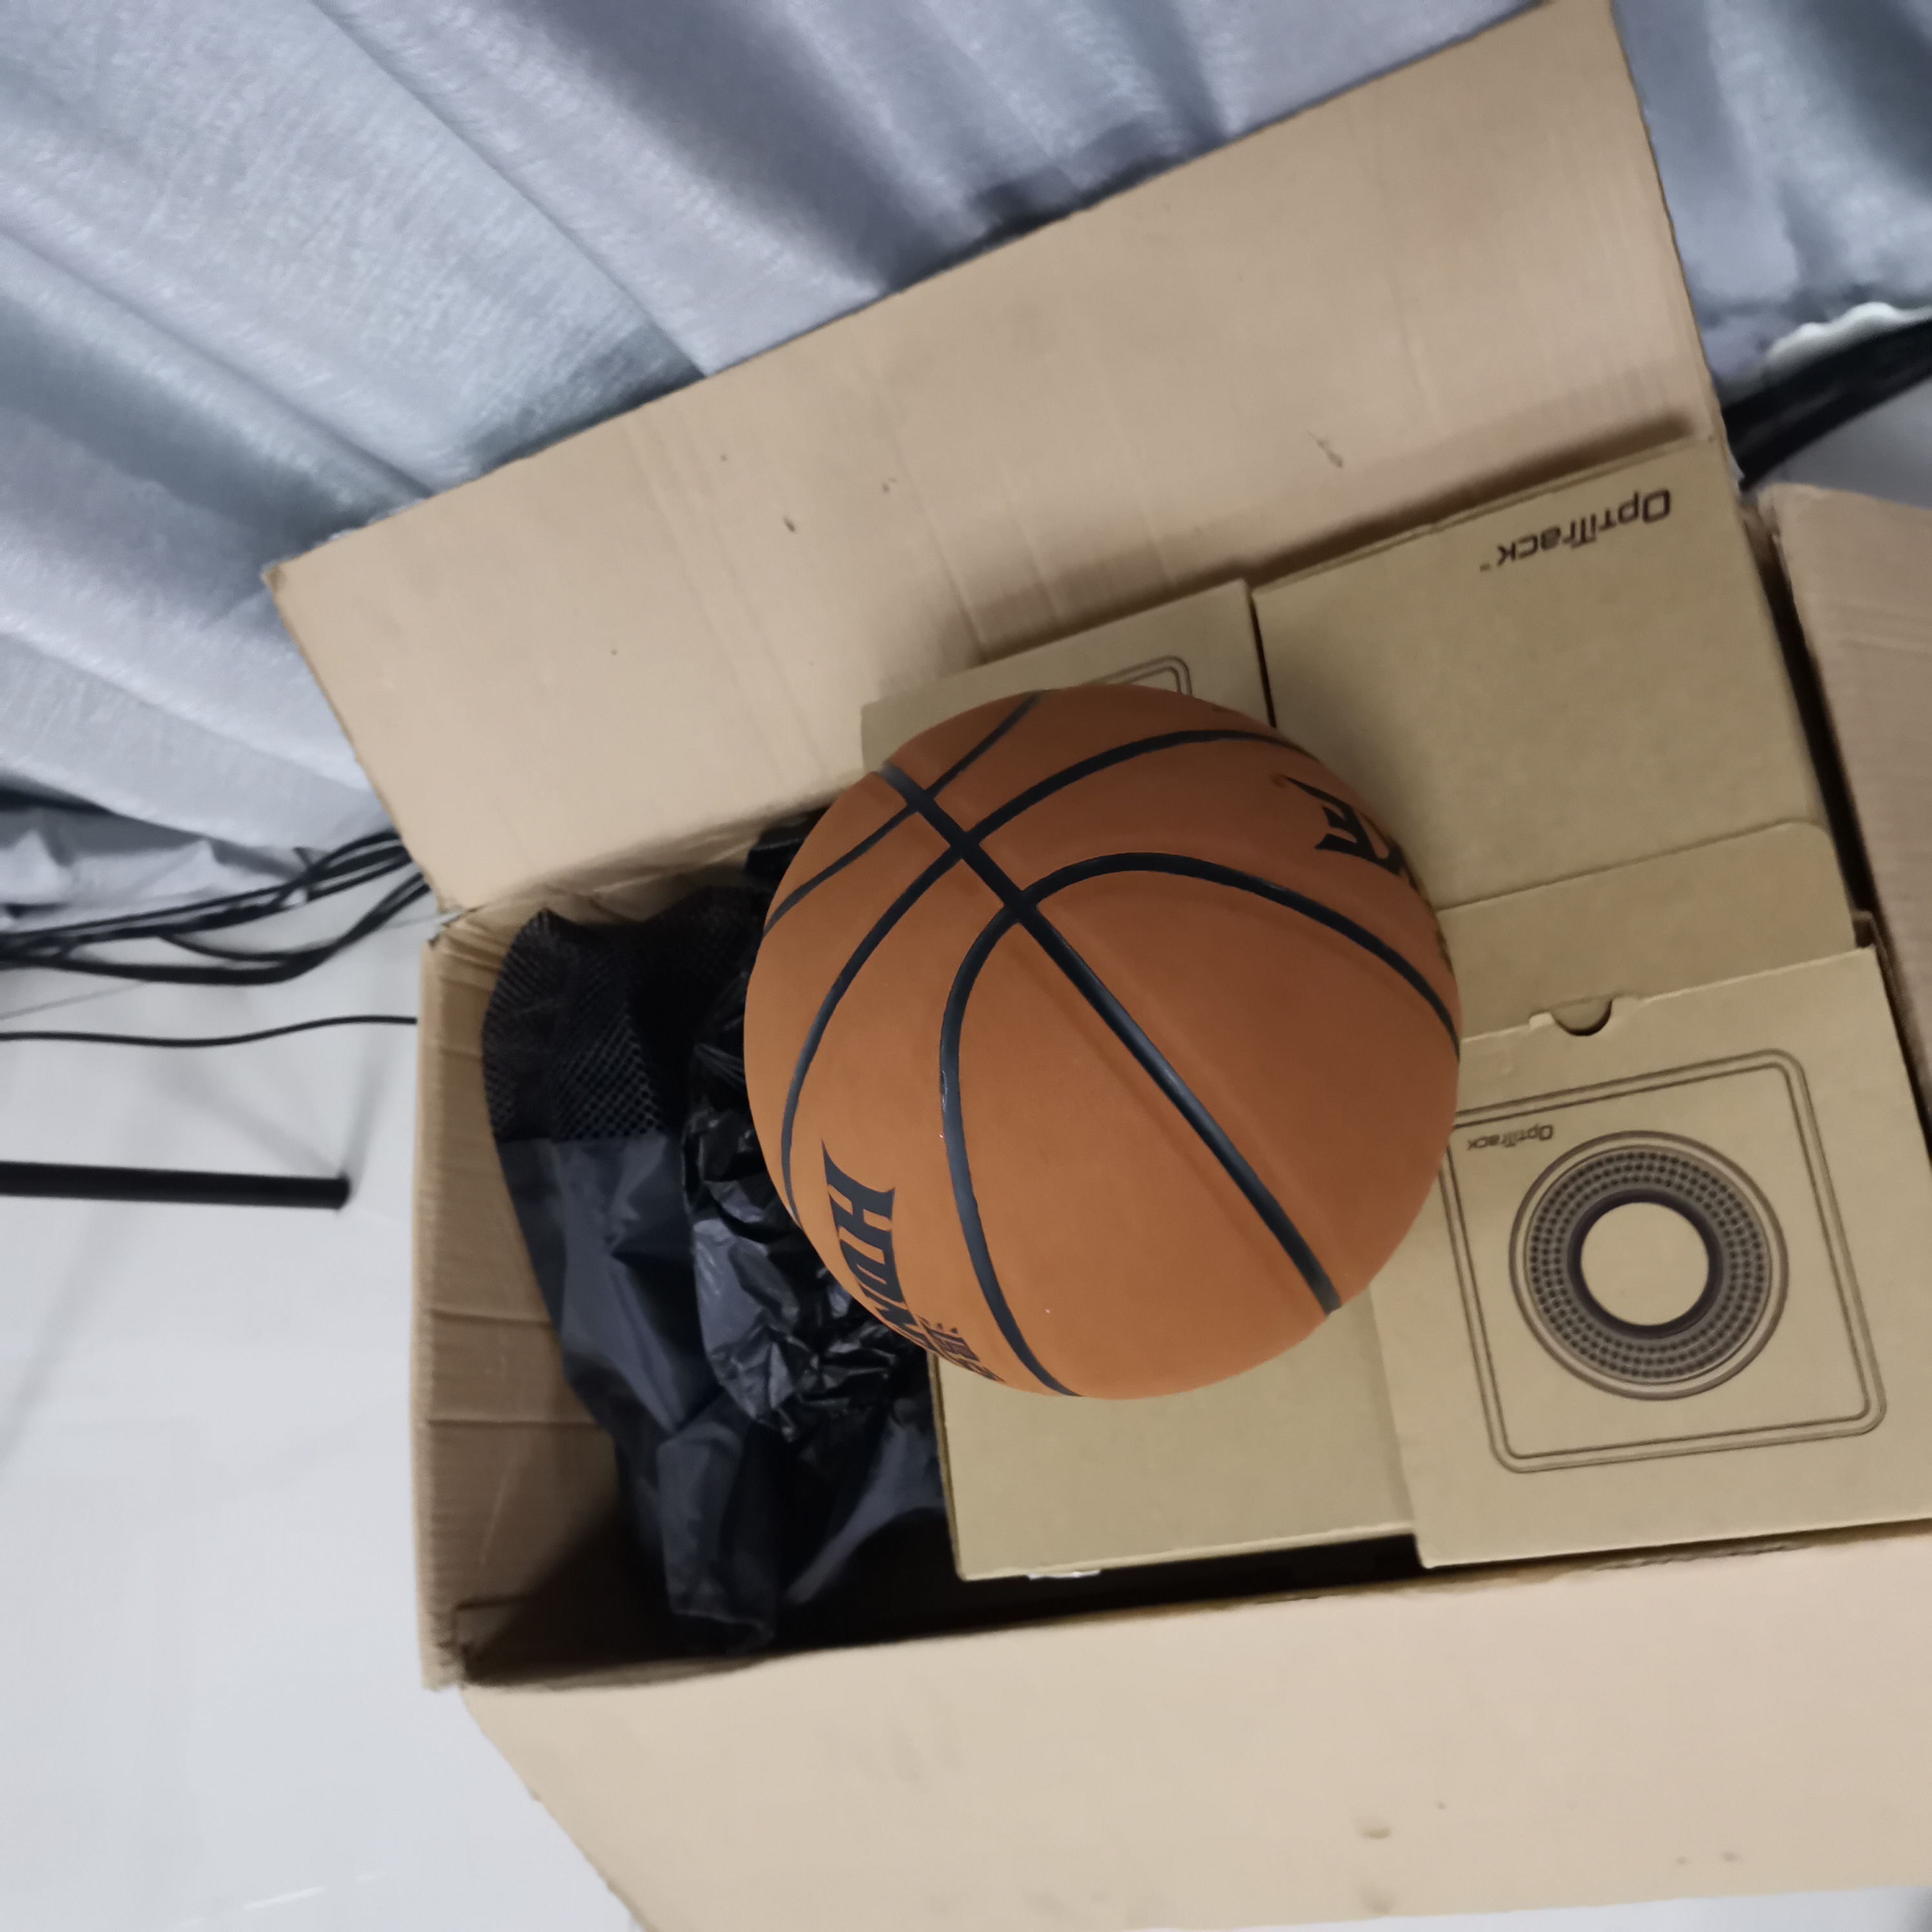basketball: (745, 694, 1461, 1403)
